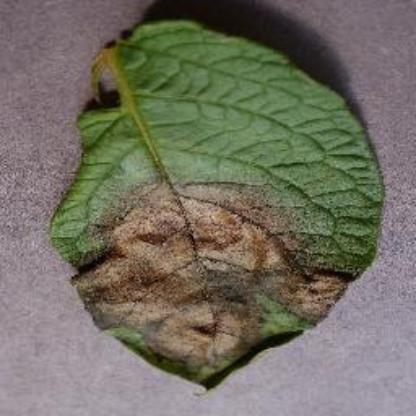Late-Blight: (3, 16, 400, 402)
